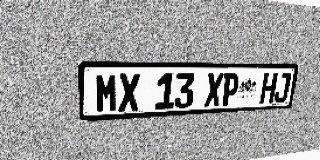1: (155, 73, 176, 110)
3: (174, 73, 195, 108)
H: (259, 73, 278, 104)
J: (273, 73, 292, 103)
M: (95, 73, 118, 113)
P: (221, 73, 240, 106)
X: (118, 73, 140, 112), (204, 73, 224, 107)
